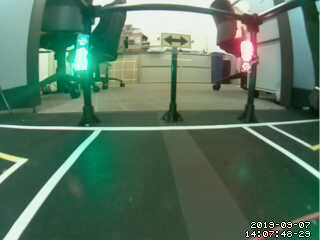Left_Right_sign: (160, 32, 191, 49)
Traffic_light_green: (75, 34, 87, 74)
Traffic_light_red: (242, 39, 254, 66)
